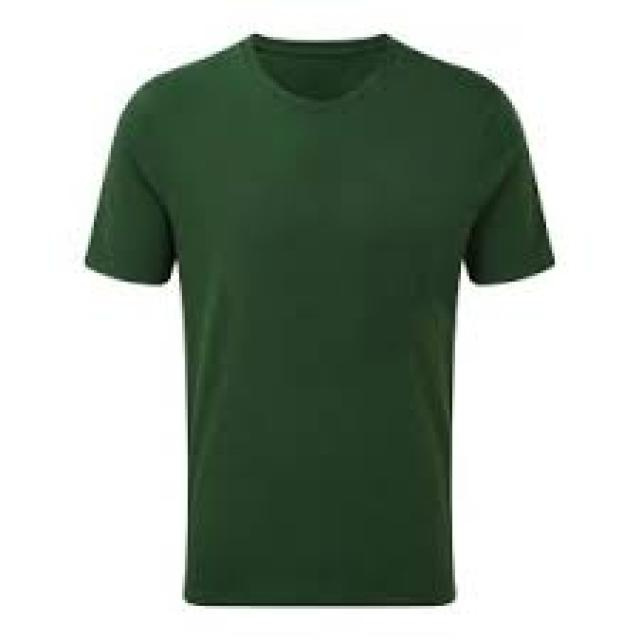shirt: (88, 33, 552, 605)
